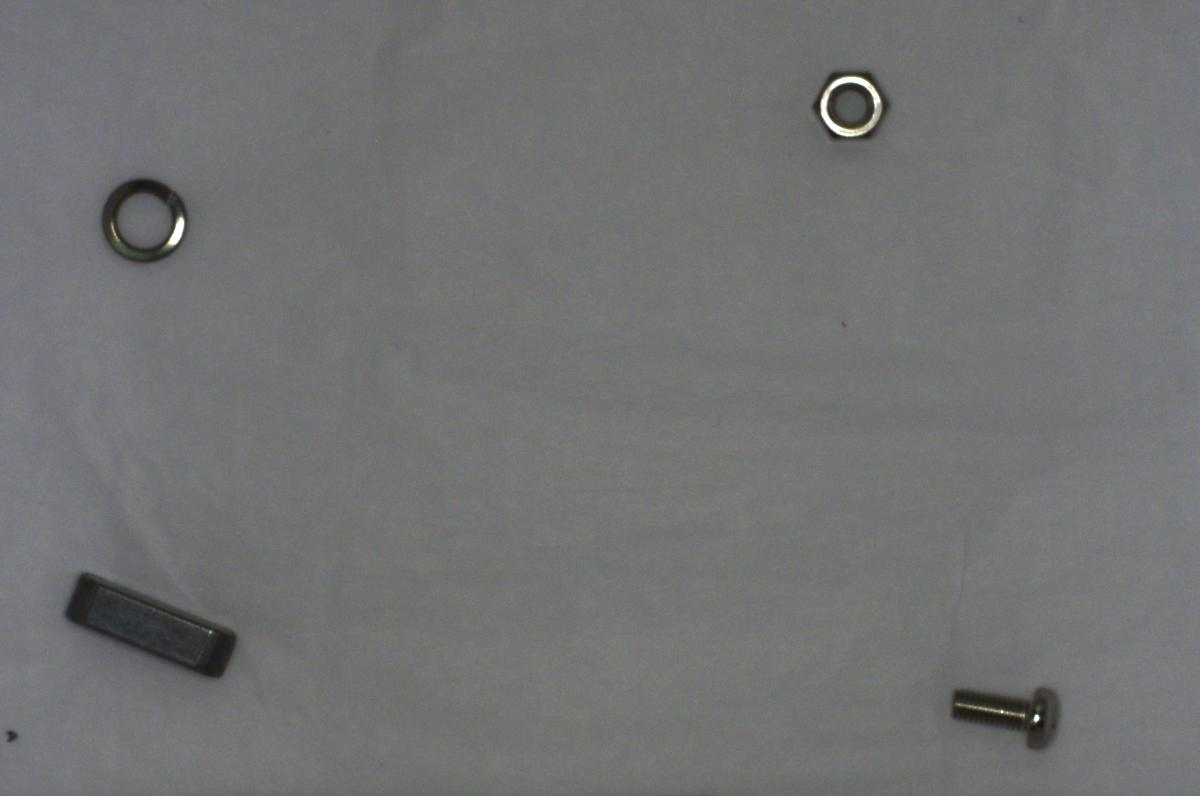Hexagon nut: (799, 62, 892, 140)
Keybar: (54, 561, 247, 688)
Round head screw: (940, 672, 1072, 758)
Spring washer: (100, 162, 190, 263)
